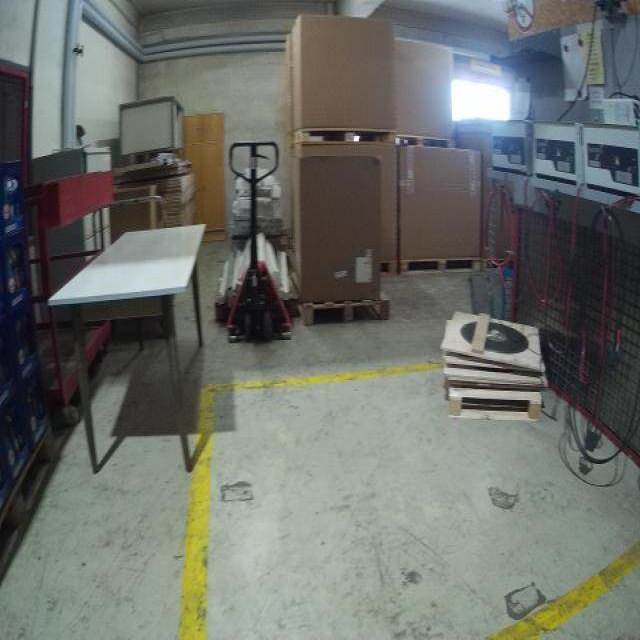pallet: (446, 385, 542, 425), (299, 292, 393, 330), (290, 124, 398, 150), (399, 255, 483, 277), (396, 133, 453, 150), (377, 255, 398, 279)
pallet_truck: (212, 134, 298, 343)
